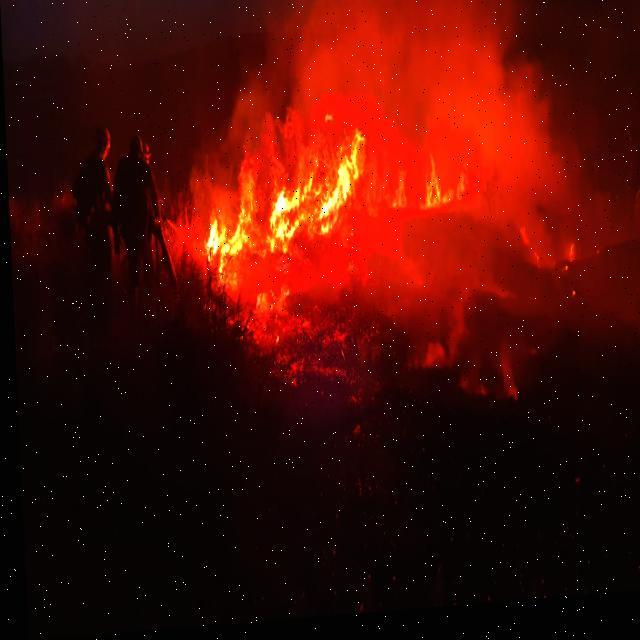Fire: (190, 150, 470, 280), (248, 282, 287, 326), (566, 248, 574, 273)
